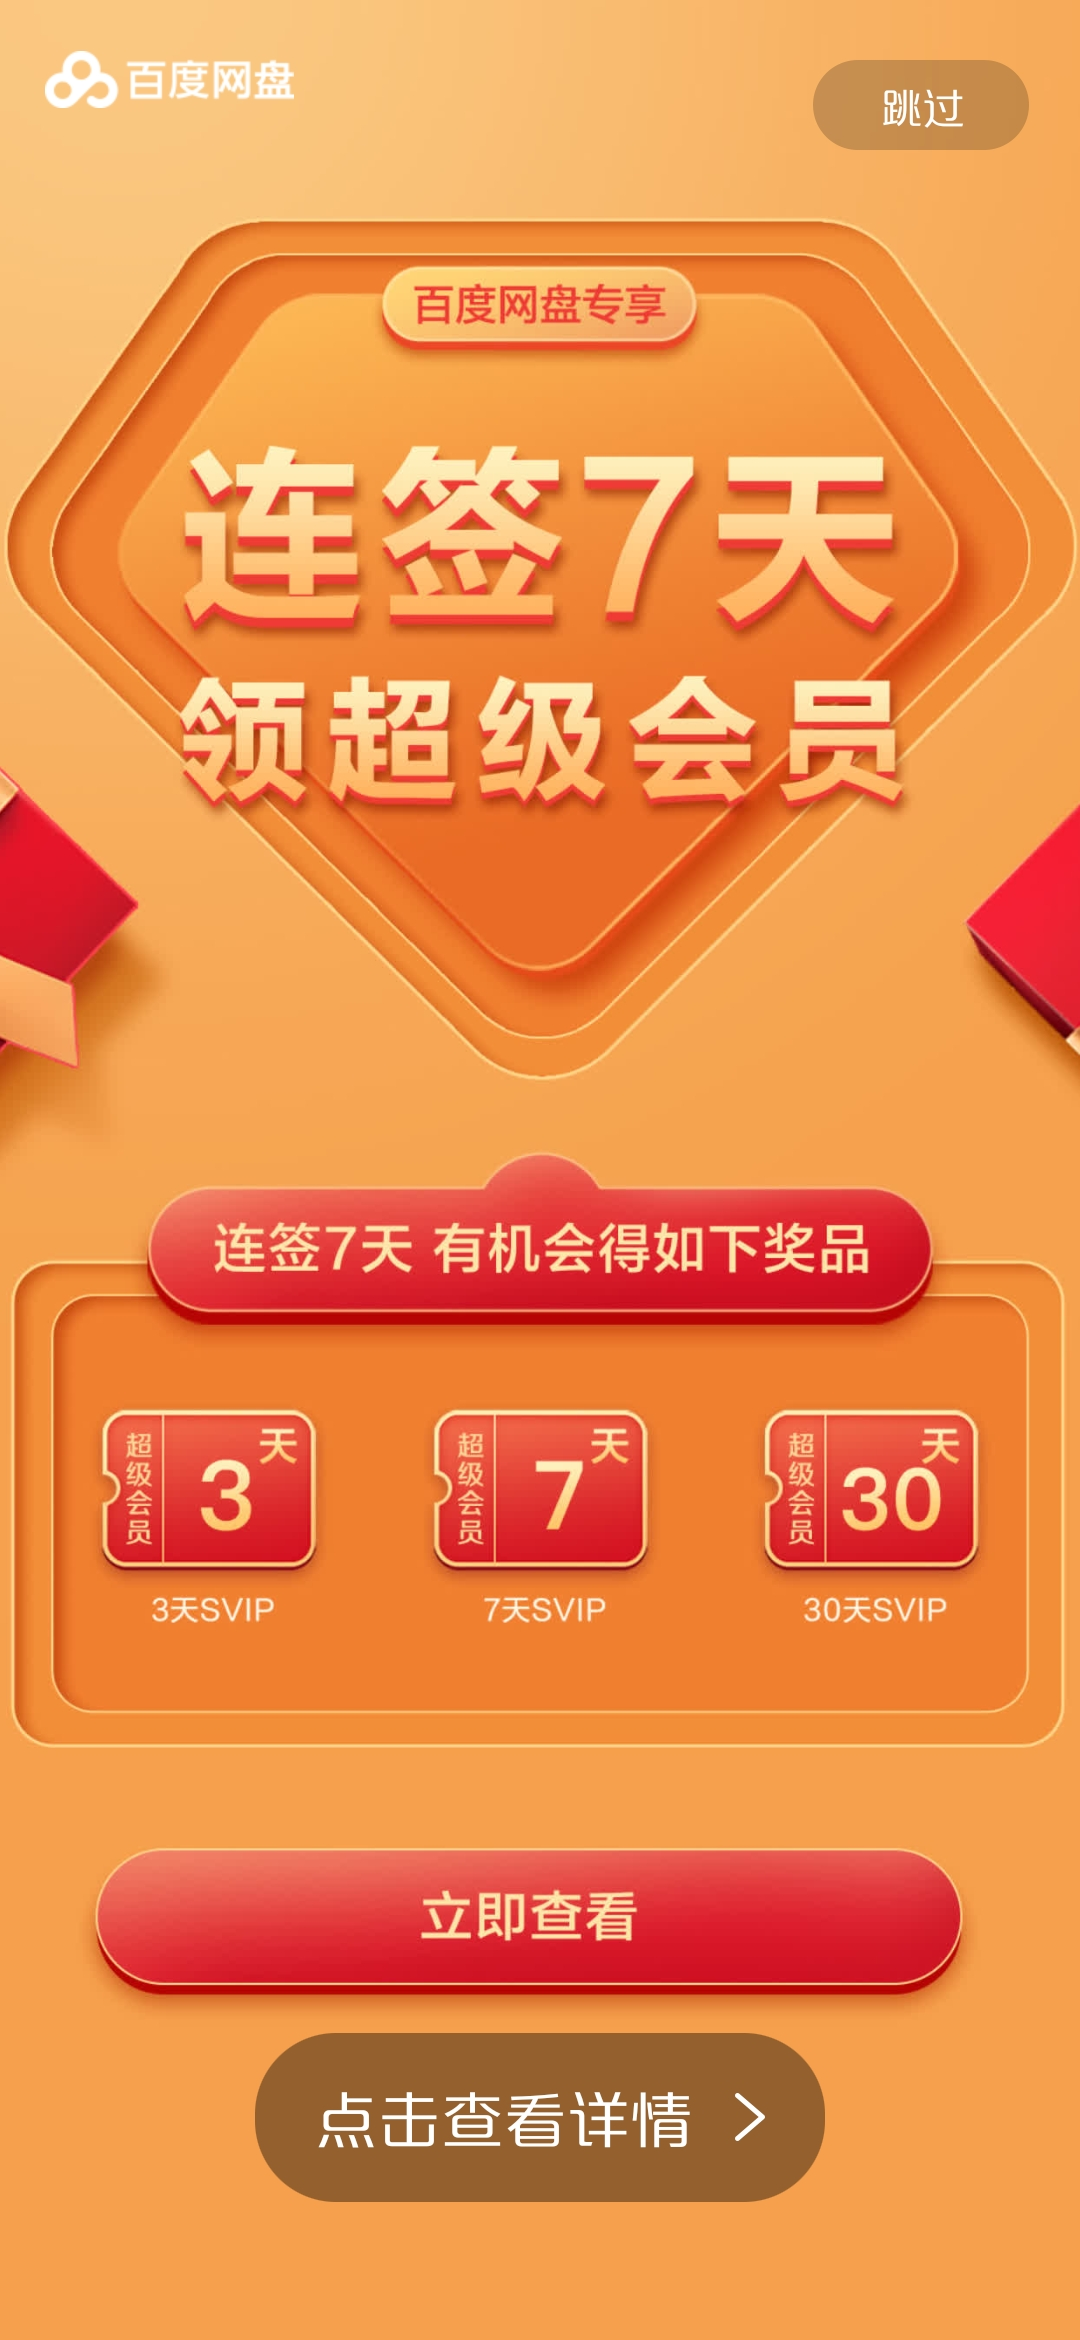skip: (835, 70, 1041, 155)
